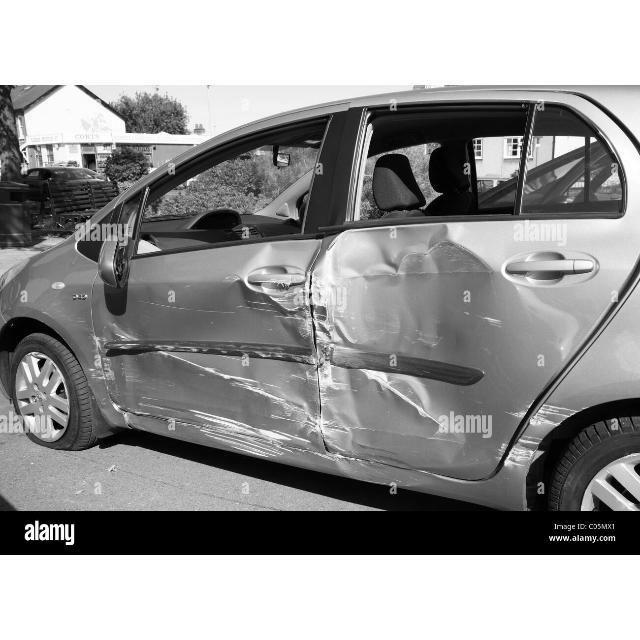doorouter-dent: (325, 188, 596, 490), (115, 203, 325, 426)
